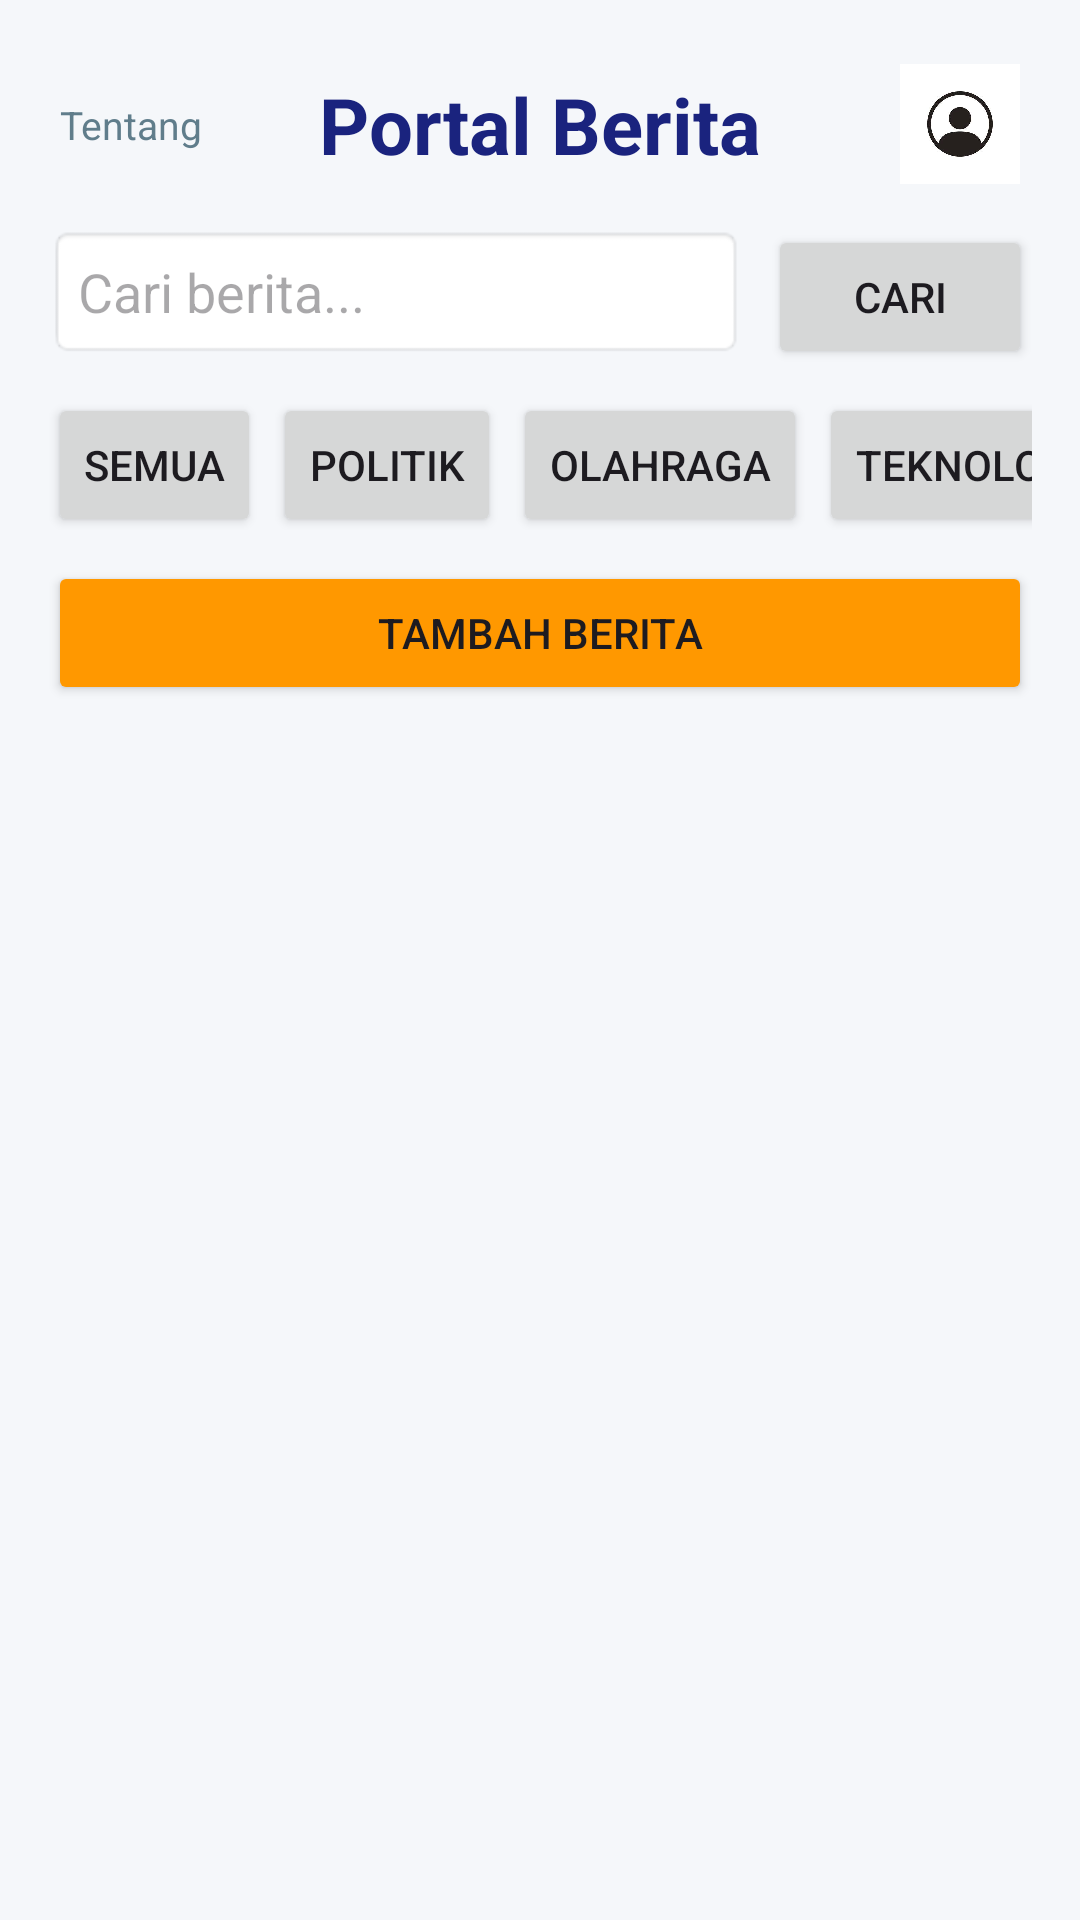

Locate icon controls on the screen. Image size 1080 x 1920, boxes as detection(x1, y1, x2, y2).
Admin: detection(900, 64, 1020, 184)
